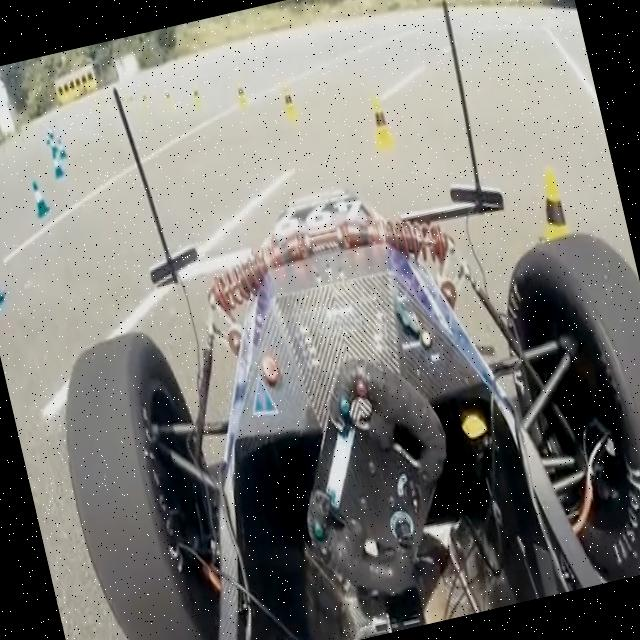blue_cone: (28, 176, 52, 218), (0, 247, 10, 315)
yellow_cone: (523, 167, 584, 287), (364, 92, 398, 150), (276, 79, 302, 124)
